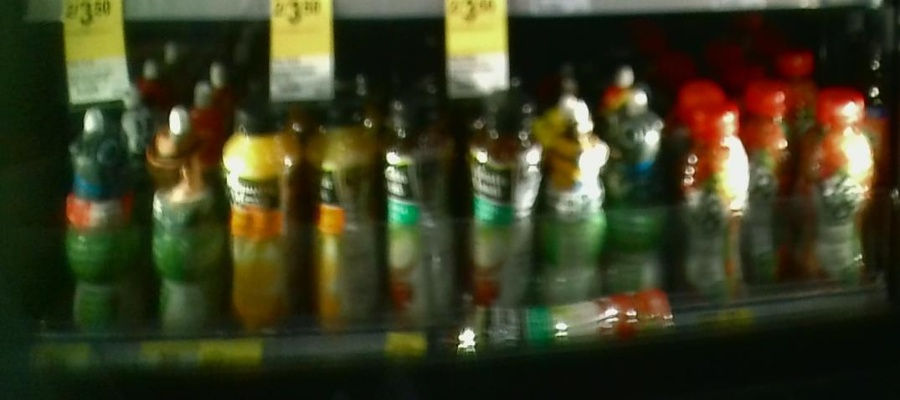bottle: (224, 94, 301, 355), (59, 108, 142, 350), (143, 103, 222, 353), (378, 96, 458, 325), (305, 88, 374, 334), (800, 90, 877, 297), (464, 95, 534, 316), (535, 94, 604, 318), (677, 101, 750, 307), (608, 86, 666, 288), (751, 86, 793, 295)
